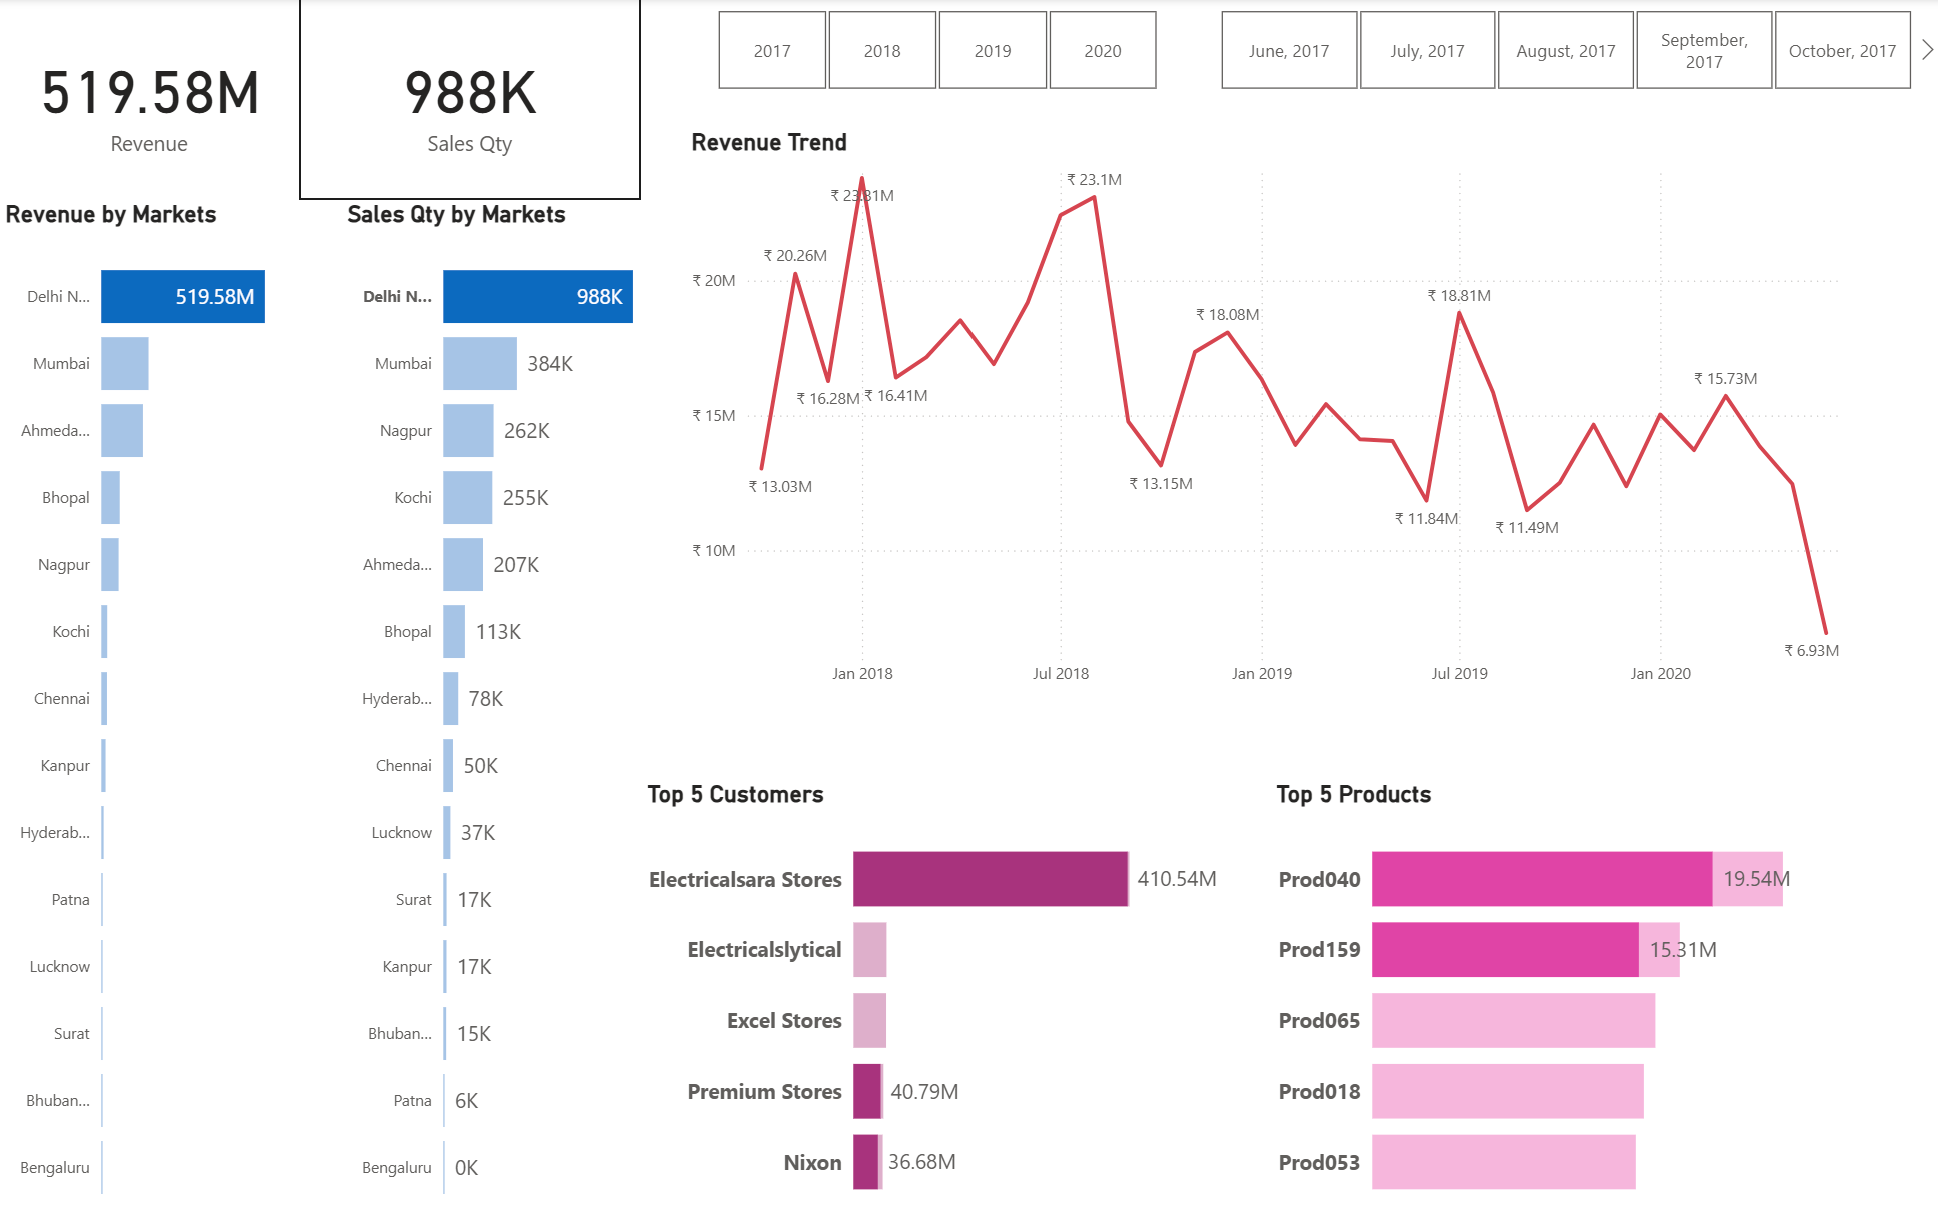

This screenshot's page, from the dashboard's own definition file:
{"tool":"powerbi","page":{"name":"Page 1","canvas":[1500,950],"ordinal":0},"visuals":[{"type":"card","fields":{"Values":["BaseMeasures.Revenue"]},"box":[0,0,231.7,156],"z":0},{"type":"card","fields":{"Values":["BaseMeasures.Sales Qty"]},"box":[231.5,0,263.8,156.1],"z":1000},{"type":"barChart","title":"Revenue by Markets","fields":{"Y":["BaseMeasures.Revenue"],"Category":["sales markets.markets_name"]},"box":[0,156,265.7,794],"z":2000},{"type":"barChart","title":"Sales Qty by Markets","fields":{"Y":["BaseMeasures.Sales Qty"],"Category":["sales markets.markets_name"]},"box":[264.1,156,265.7,794],"z":3000},{"type":"slicer","fields":{"Values":["sales date.year"]},"box":[529.8,3.1,387.7,74.1],"z":4000},{"type":"slicer","fields":{"Values":["sales date.cy_date"]},"box":[917.6,3.1,582.4,74.1],"z":5000},{"type":"barChart","title":"Top 5 Customers","fields":{"Y":["BaseMeasures.Revenue"],"Category":["sales customers.custmer_name"]},"box":[495.2,604.7,455.7,344.5],"z":6000},{"type":"barChart","title":"Top 5 Products","fields":{"Y":["BaseMeasures.Revenue"],"Category":["sales products.product_code"]},"box":[981.5,604.7,455.7,344.5],"z":7000},{"type":"lineChart","title":"Revenue Trend","fields":{"Y":["BaseMeasures.Revenue"],"Category":["sales date.cy_date"]},"box":[529.3,100.5,909.7,439.6],"z":8000}]}

Visuals, with their boxes in screenshot pixels (x1, y1, x2, y2), scaled from the page's 1500x950 canvas onto the 1938x1222 screenshot:
card - BaseMeasures.Revenue: region(0, 0, 299, 201)
card - BaseMeasures.Sales Qty: region(299, 0, 640, 201)
"Revenue by Markets" barChart: region(0, 201, 343, 1221)
"Sales Qty by Markets" barChart: region(341, 201, 685, 1221)
slicer - sales date.year: region(685, 4, 1185, 99)
slicer - sales date.cy_date: region(1186, 4, 1937, 99)
"Top 5 Customers" barChart: region(640, 778, 1229, 1221)
"Top 5 Products" barChart: region(1268, 778, 1857, 1221)
"Revenue Trend" lineChart: region(684, 129, 1859, 695)
